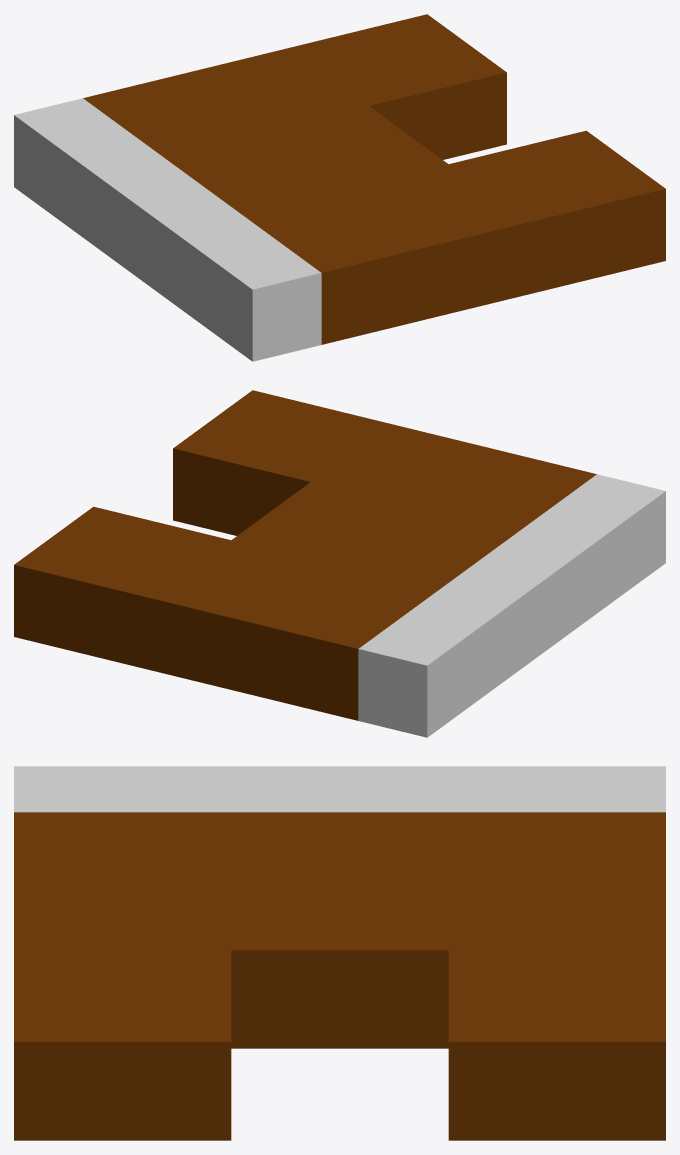
Rendered from Boxer00.gltf.
3 renders of one model, top to bottom at view 1: azimuth 30°, elevation 25°; view 2: azimuth 150°, elevation 25°; view 3: azimuth 270°, elevation 25°, orthographic. The views are drawn at different scales.
Visible parts, largest first — view 1: Layer.1; view 2: Layer.1; view 3: Layer.1.
Boxes of the visible parts, x1=… form: Layer.1: x1=14, y1=14, x2=665, y2=361; Layer.1: x1=14, y1=390, x2=665, y2=737; Layer.1: x1=14, y1=766, x2=665, y2=1140.
Size of the model in its own units: 6 by 1 by 6.
